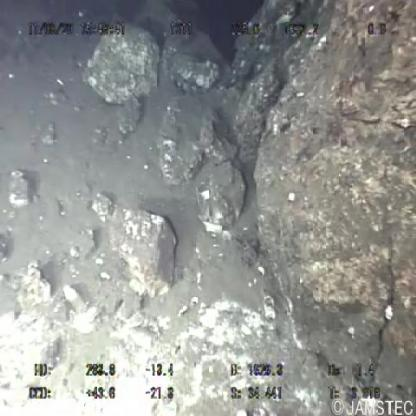Rác: (194, 184, 222, 240), (60, 282, 90, 320)
